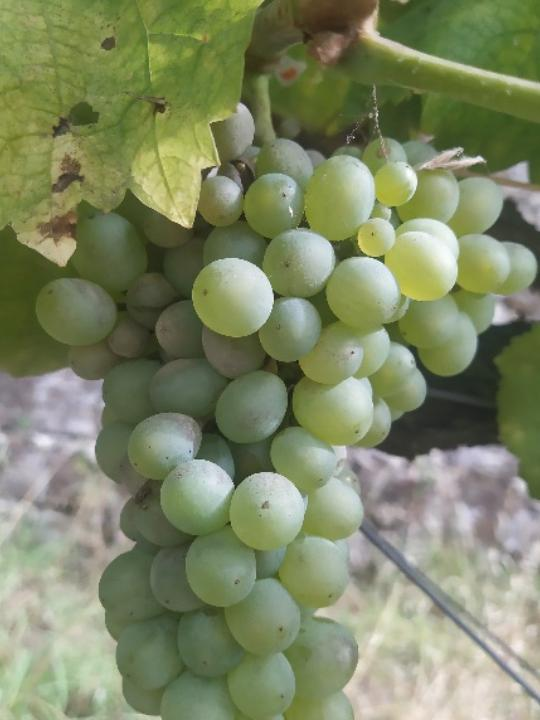grape: (28, 101, 540, 720)
